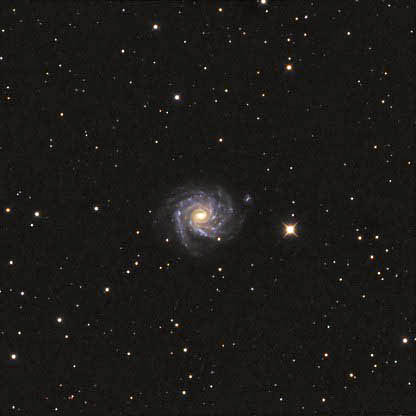NGC 1232: (163, 180, 257, 263)
